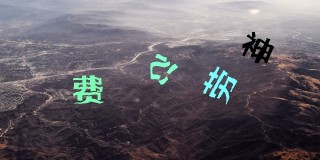劳: (201, 65, 238, 105)
心: (149, 53, 178, 86)
神: (242, 31, 275, 64)
费: (71, 74, 104, 105)
